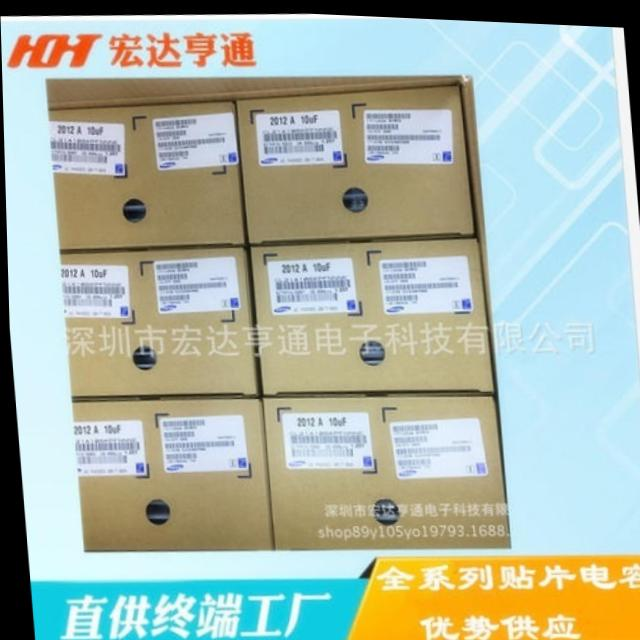box: (247, 231, 490, 393), (233, 79, 475, 241), (259, 390, 506, 544), (58, 242, 259, 401), (46, 94, 249, 251), (72, 393, 271, 550)
